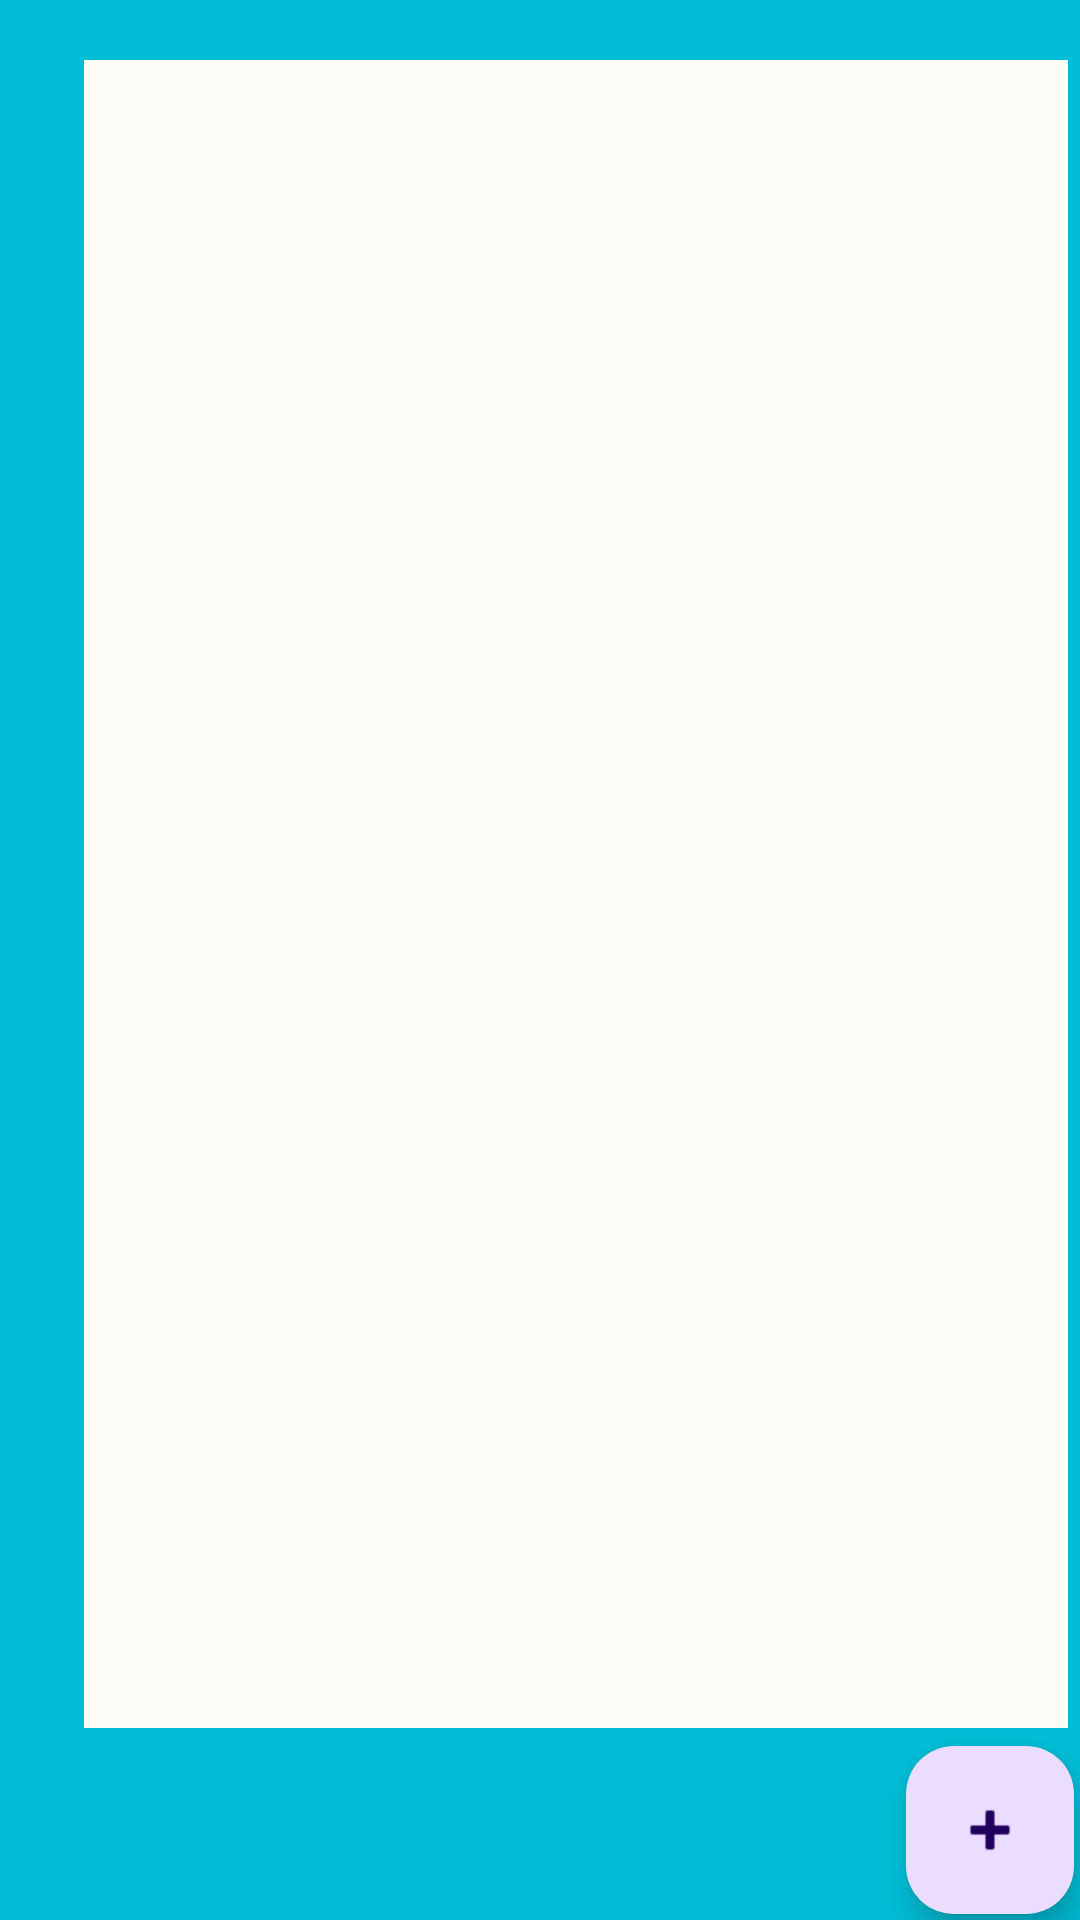

Named icons in this screenshot (1080x1920) and their centers, [x,y]:
add: [990,1830]
